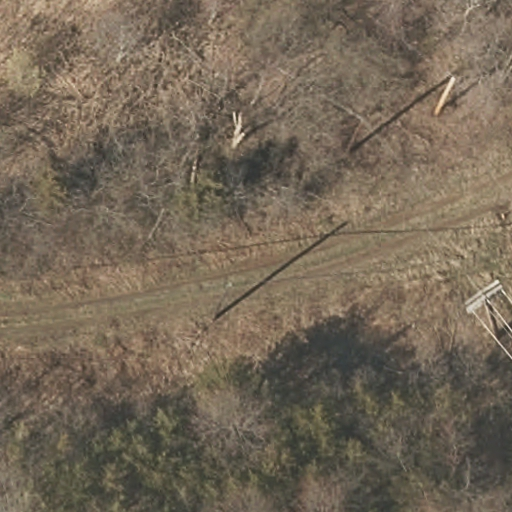DT: (461, 271, 507, 326)
